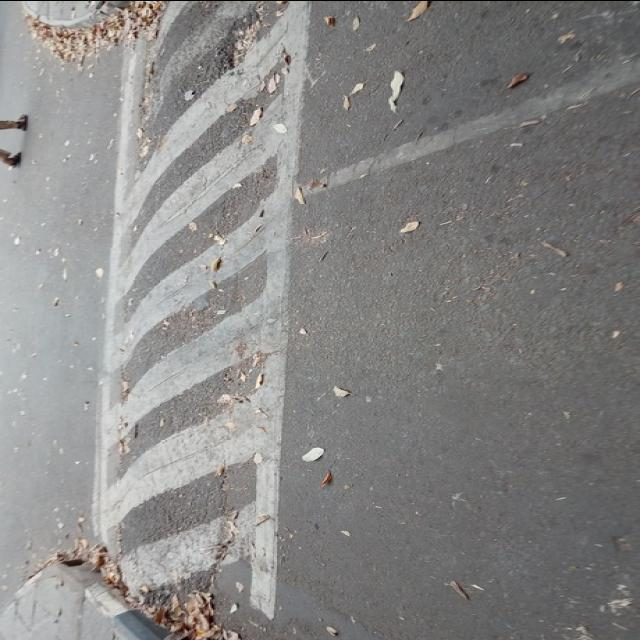speedbreaker: (92, 0, 320, 569)
